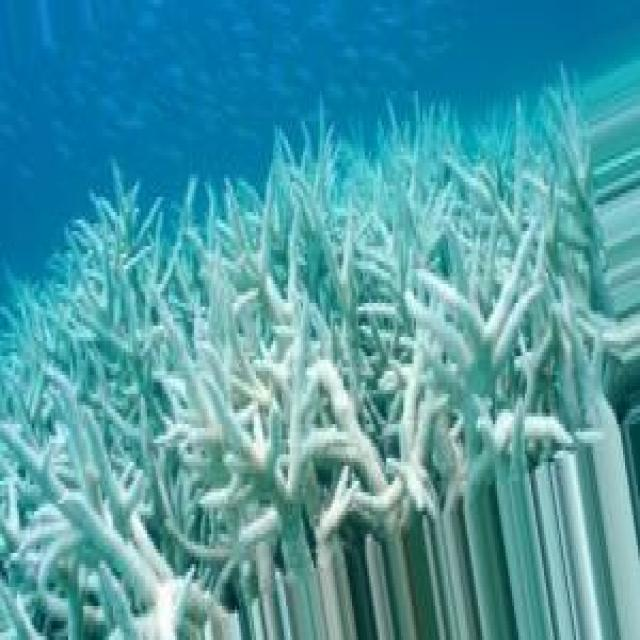bleached coral: (147, 451, 252, 583), (58, 489, 160, 587), (194, 348, 273, 462), (311, 360, 380, 473), (352, 227, 450, 295), (401, 322, 446, 462), (282, 208, 318, 379), (442, 303, 495, 398), (514, 258, 567, 352)
healthy coral: (128, 204, 203, 311), (418, 121, 512, 193), (30, 295, 109, 371), (273, 125, 335, 201), (563, 106, 595, 216), (28, 413, 58, 451)
